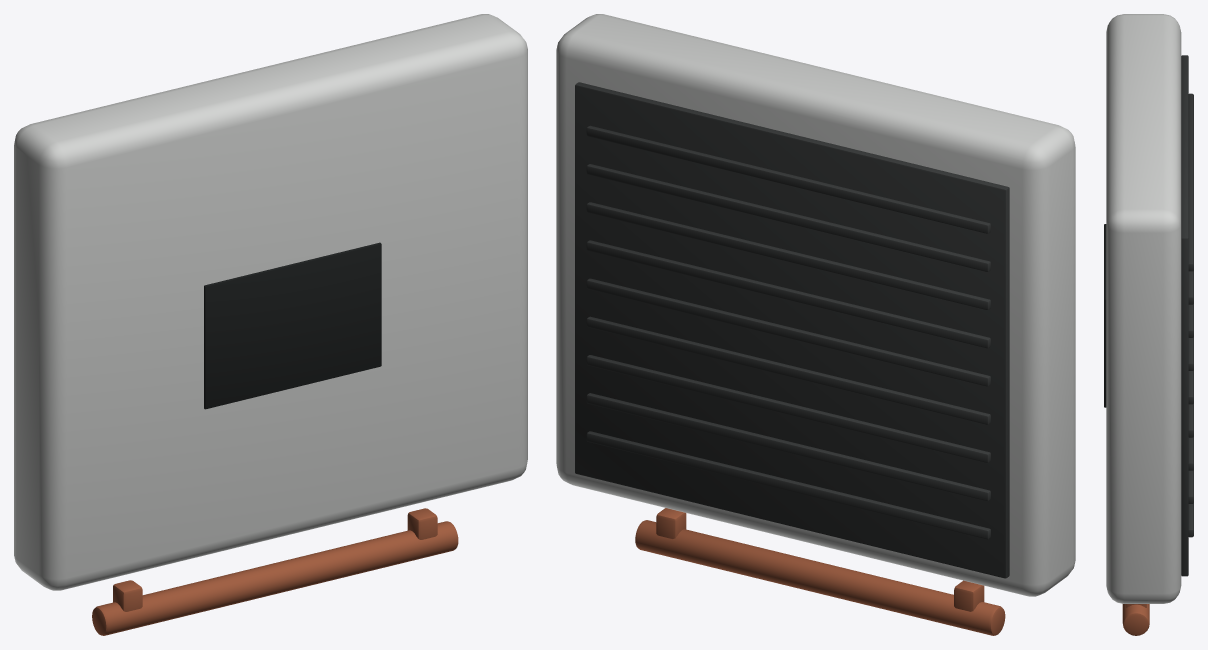
Rendered from contact_grill_upper_plate.glb.
3 renders of one model, left to right at view 1: azimuth 30°, elevation 25°; view 2: azimuth 150°, elevation 25°; view 3: azimuth 270°, elevation 25°, orthographic. The views are drawn at different scales.
Parts seen in each view (by area): view 1: contact_grill_upper_plate_x; view 2: contact_grill_upper_plate_x; view 3: contact_grill_upper_plate_x.
Part boxes in pixels (x1,y1,x2,y2): contact_grill_upper_plate_x: [14, 14, 527, 635]; contact_grill_upper_plate_x: [556, 14, 1075, 635]; contact_grill_upper_plate_x: [1104, 14, 1193, 635].
Size of the model in its own units: 0.33 by 0.331 by 0.06.
